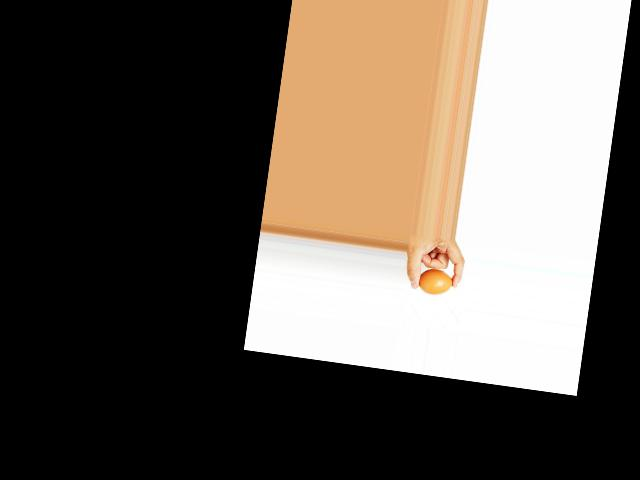egg: (417, 267, 454, 297)
